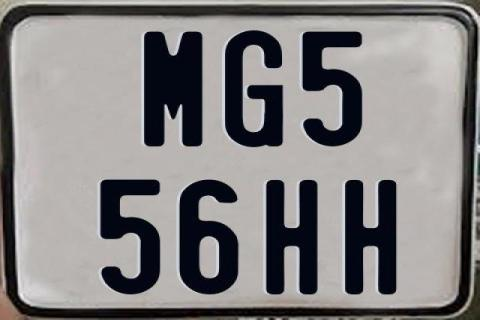0: (99, 177, 164, 293), (300, 31, 363, 148), (179, 180, 240, 296)
G: (223, 28, 285, 149)
H: (344, 180, 400, 298), (266, 178, 318, 292)
M: (142, 30, 204, 148)
